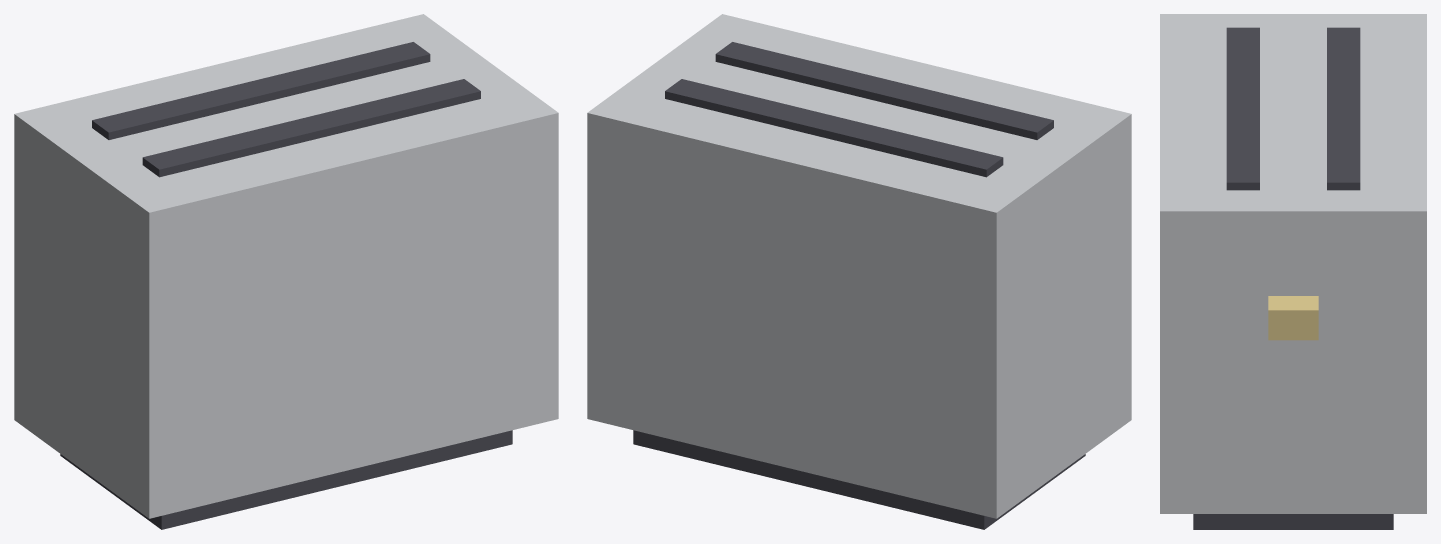
Rendered from bb_set_toaster.fbx.
The picture shows the model from 3 angles, left to right: view 1: azimuth 30°, elevation 25°; view 2: azimuth 150°, elevation 25°; view 3: azimuth 270°, elevation 25°; orthographic projection.
Parts seen in each view (by area): view 1: bb_set_toaster; view 2: bb_set_toaster; view 3: bb_set_toaster.
Part boxes in pixels (left/top/right/bottom): bb_set_toaster: left=14, top=14, right=558, bottom=529; bb_set_toaster: left=587, top=14, right=1131, bottom=529; bb_set_toaster: left=1160, top=14, right=1426, bottom=529.
Bounding box in the file's own units: 0.3 × 0.225 × 0.16.
